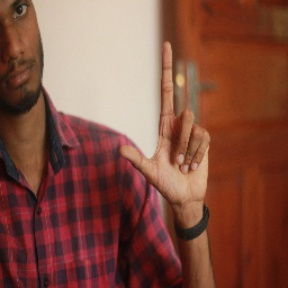L: (117, 41, 216, 204)
